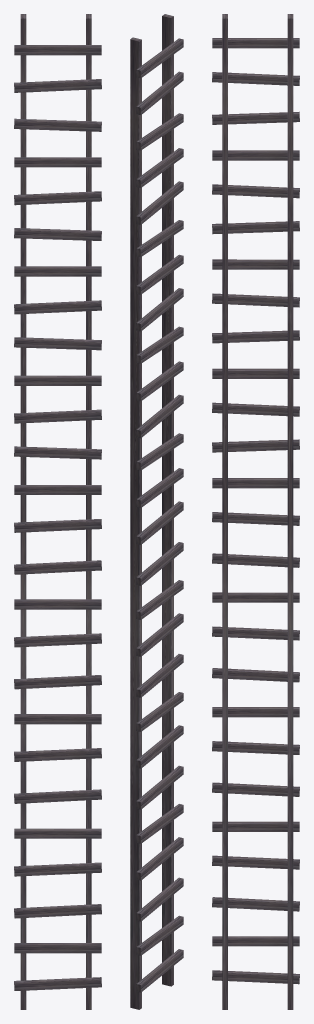
File: stair.FBX
3 views of the same model, side by side, from view 1: azimuth 90°, elevation 25°; view 2: azimuth 150°, elevation 25°; view 3: azimuth 270°, elevation 25° (orthographic). The views are drawn at different scales.
Visible parts, largest first — view 1: Box002; view 2: Box002; view 3: Box002.
Part boxes in pixels (x1,y1,x2,y2): Box002: [14, 14, 101, 1009]; Box002: [130, 14, 183, 1009]; Box002: [212, 14, 299, 1009].
Size of the model in its own units: 15 by 1000 by 80.32.
